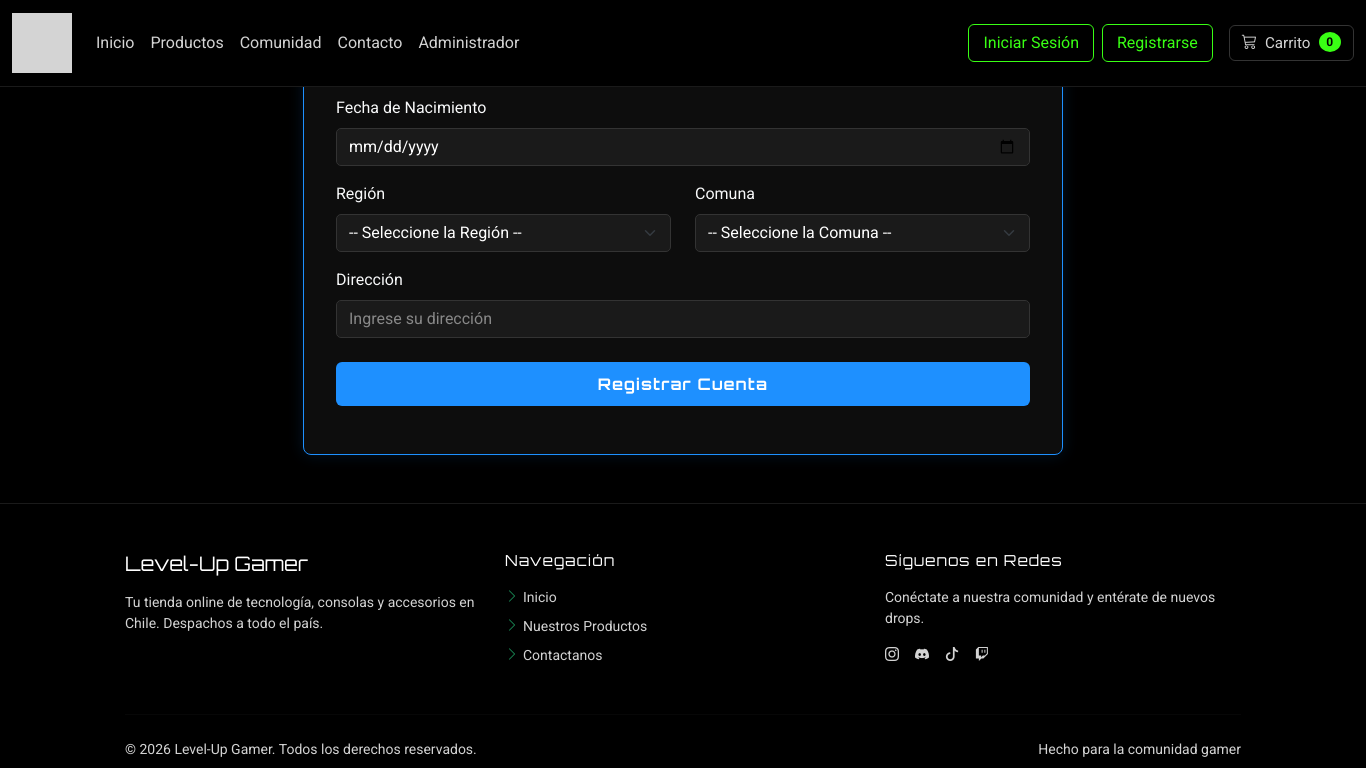
Test: Comprobar que el formulario bloquea el envío y alerta si el RUN está vacío
(page scrolled)
Simulamos el clic directo sin llenar ningún dato en el formulario
Click the button "Registrar Cuenta".
click(683, 384)  # box [336,362,1030,406]
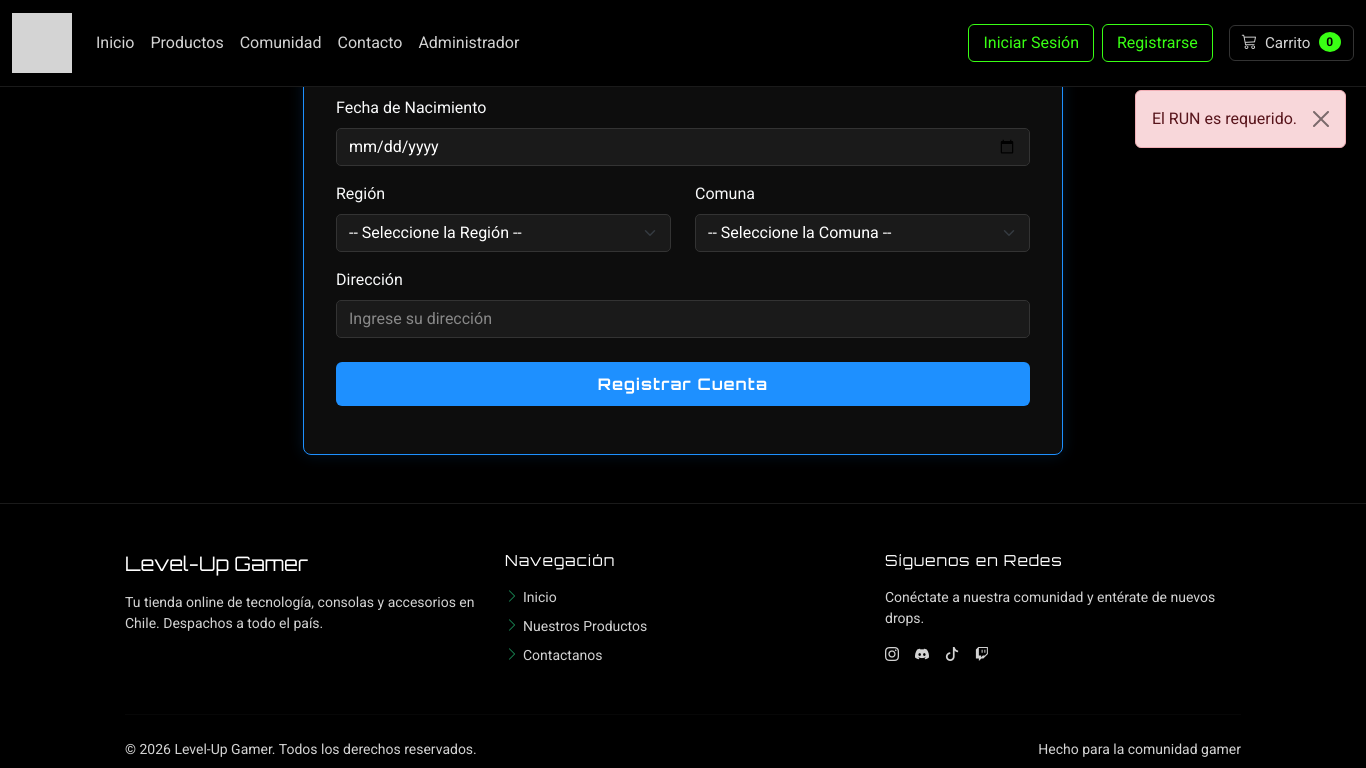
Result: the text "El RUN es requerido." is shown at [1135,90,1346,148]
